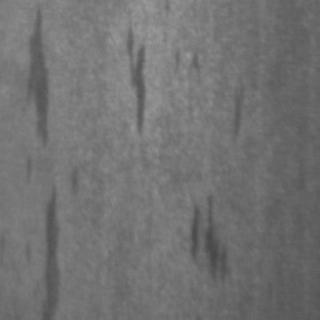inclusion: (11, 2, 59, 146), (109, 13, 157, 139), (27, 175, 67, 315), (182, 189, 232, 293), (216, 68, 252, 160), (167, 46, 203, 86)
